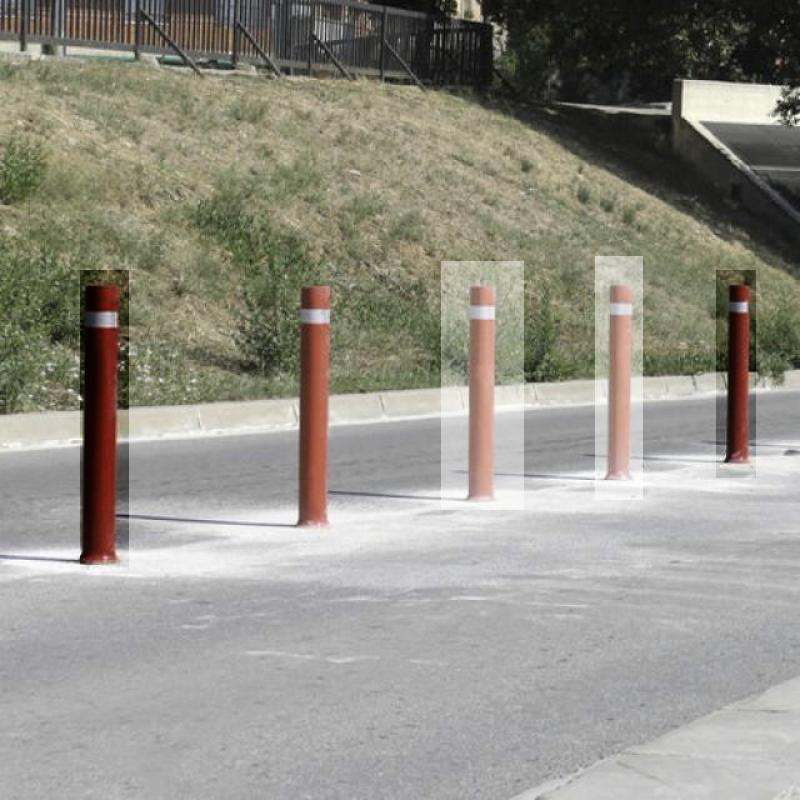pillar: (441, 261, 524, 510), (285, 265, 349, 536), (80, 270, 129, 570), (595, 256, 643, 500), (716, 270, 756, 478)
